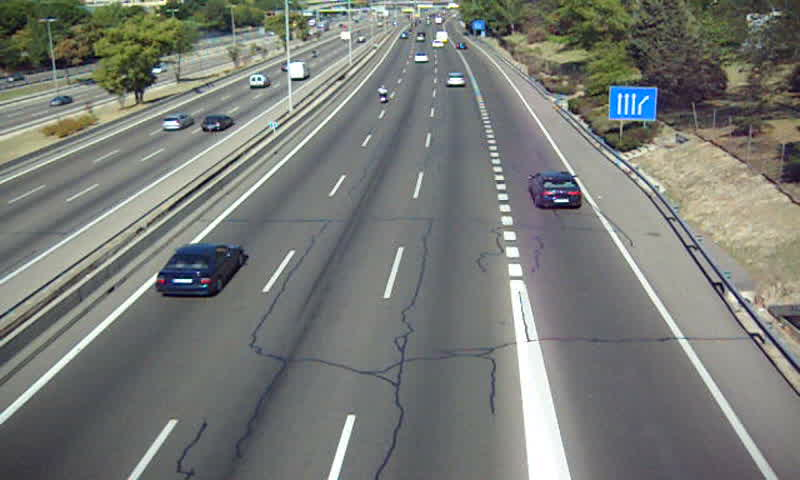car: (156, 244, 244, 296), (528, 170, 581, 208), (444, 72, 465, 88)
motorcycle: (376, 83, 390, 105)
